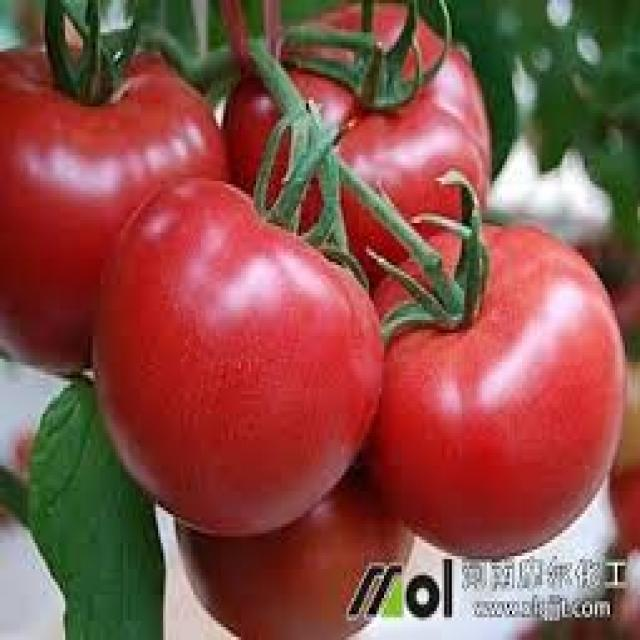organic waste: (88, 107, 384, 533), (364, 165, 625, 559), (0, 22, 228, 371), (221, 0, 489, 291), (171, 449, 414, 637)
